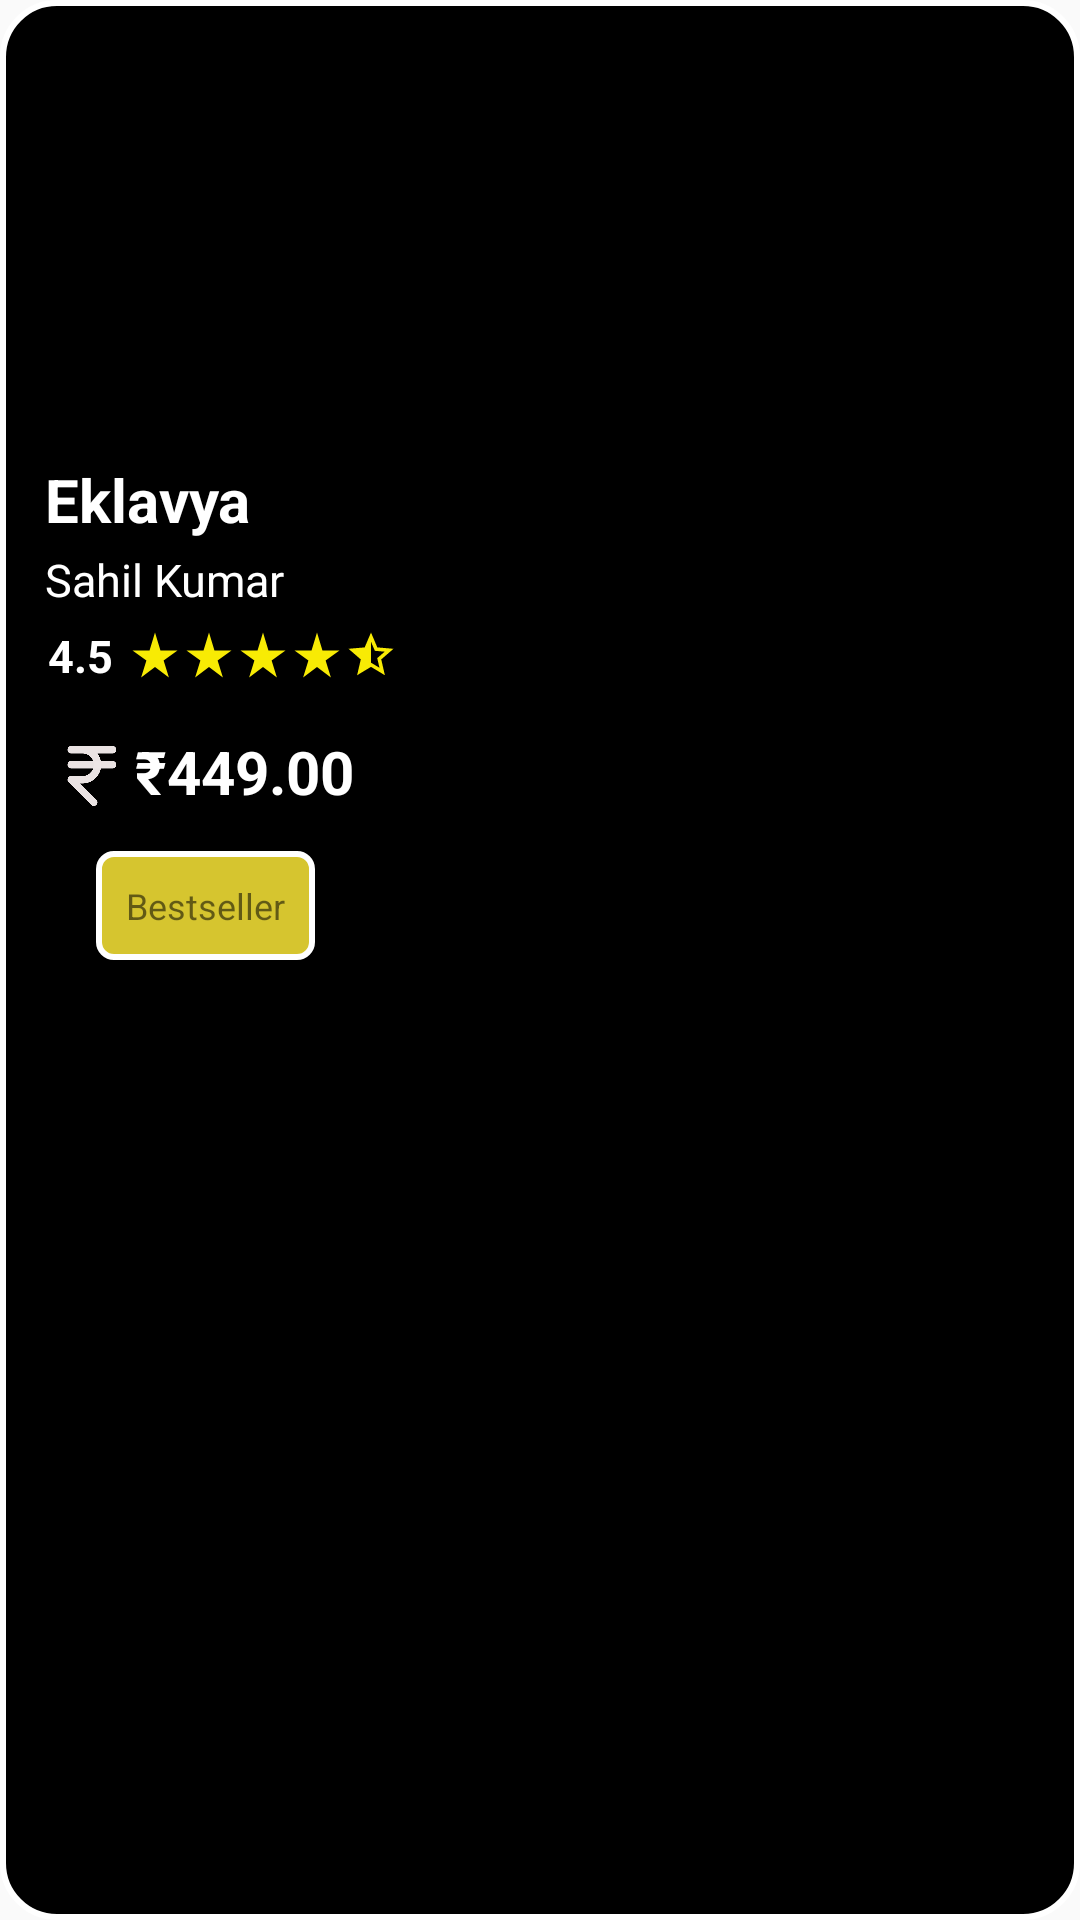

Screen size 1080×1920. Icon name, then its box in pixels as (x1, y1, x2, y2):
rupee: (67, 746, 116, 806)
star half: (348, 633, 394, 675)
star rate: (133, 633, 177, 678), (187, 633, 231, 678), (241, 633, 285, 678), (295, 633, 339, 678)
